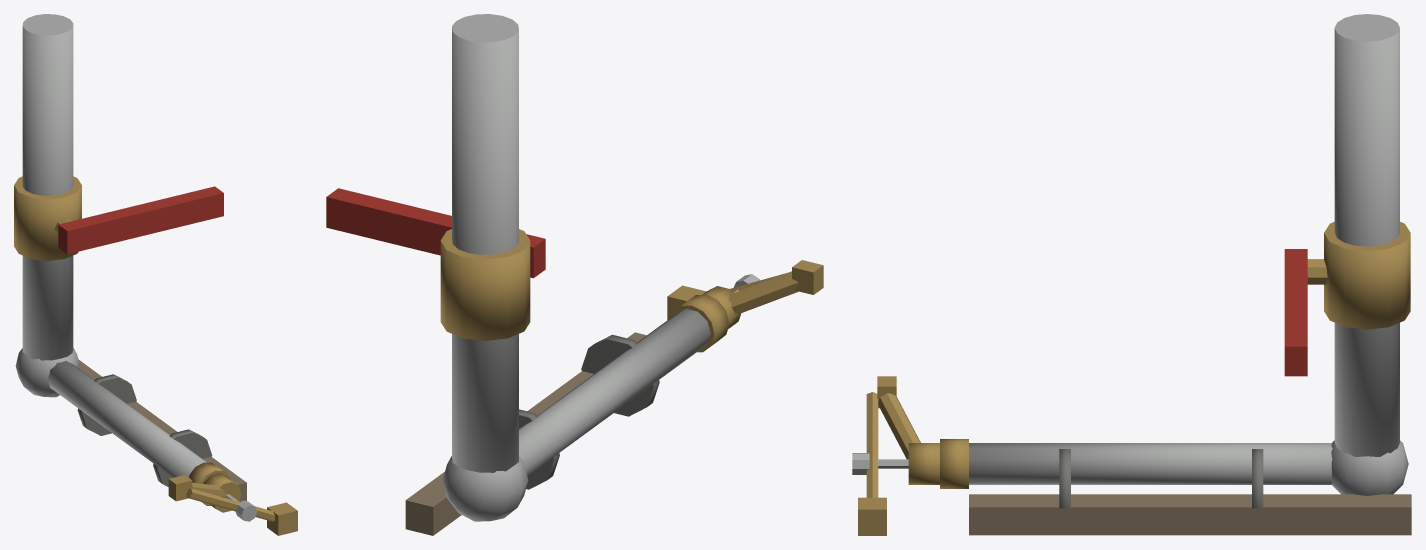
The model's file is sprinkler_manual_off.obj.
3 renders of one model, left to right at view 1: azimuth 30°, elevation 25°; view 2: azimuth 150°, elevation 25°; view 3: azimuth 270°, elevation 25°, orthographic. The views are drawn at different scales.
Parts seen in each view (by area): view 1: pipe4, riser, valve_lever, valve_body, elbow, tie0.16, stake, tie0.36, head_weight, head_arm, head_body, head_spoon (+2 smaller); view 2: pipe4, riser, valve_body, valve_lever, elbow, stake, tie0.36, head_nozzle, head_bearing, head_spoon, tie0.16; view 3: pipe4, stake, riser, valve_body, elbow, valve_lever, head_bearing, head_body, head_arm, head_nozzle, head_weight, tie0.36 (+1 smaller).
Part boxes in pixels (bbox=[...]): pipe4: bbox=[22, 14, 73, 360]; riser: bbox=[47, 361, 206, 477]; valve_lever: bbox=[58, 186, 223, 254]; valve_body: bbox=[14, 176, 81, 260]; elbow: bbox=[15, 348, 80, 397]; tie0.16: bbox=[77, 374, 136, 435]; stake: bbox=[79, 360, 246, 501]; tie0.36: bbox=[153, 429, 212, 486]; head_weight: bbox=[267, 502, 297, 535]; head_arm: bbox=[186, 488, 274, 521]; head_body: bbox=[203, 473, 241, 512]; head_spoon: bbox=[168, 475, 192, 501]; pipe4: bbox=[452, 14, 518, 472]; riser: bbox=[519, 309, 710, 475]; valve_body: bbox=[440, 229, 530, 340]; valve_lever: bbox=[326, 188, 545, 278]; elbow: bbox=[442, 456, 528, 521]; stake: bbox=[405, 332, 646, 535]; tie0.36: bbox=[581, 334, 659, 416]; head_nozzle: bbox=[729, 271, 798, 313]; head_bearing: bbox=[671, 294, 729, 352]; head_spoon: bbox=[792, 260, 823, 294]; tie0.16: bbox=[519, 409, 559, 489]; pipe4: bbox=[1334, 14, 1399, 456]; stake: bbox=[969, 494, 1411, 535]; riser: bbox=[969, 443, 1332, 484]; valve_body: bbox=[1324, 222, 1410, 329]; elbow: bbox=[1331, 440, 1408, 495]; valve_lever: bbox=[1284, 249, 1307, 376]; head_bearing: bbox=[940, 439, 968, 488]; head_body: bbox=[908, 443, 939, 484]; head_arm: bbox=[866, 392, 878, 497]; head_nozzle: bbox=[878, 393, 920, 459]; head_weight: bbox=[858, 497, 886, 535]; tie0.36: bbox=[1059, 449, 1070, 508].
Bounding box in the file's own units: 0.3175 × 0.5569 × 0.581.
5 materials, 5 textured.
